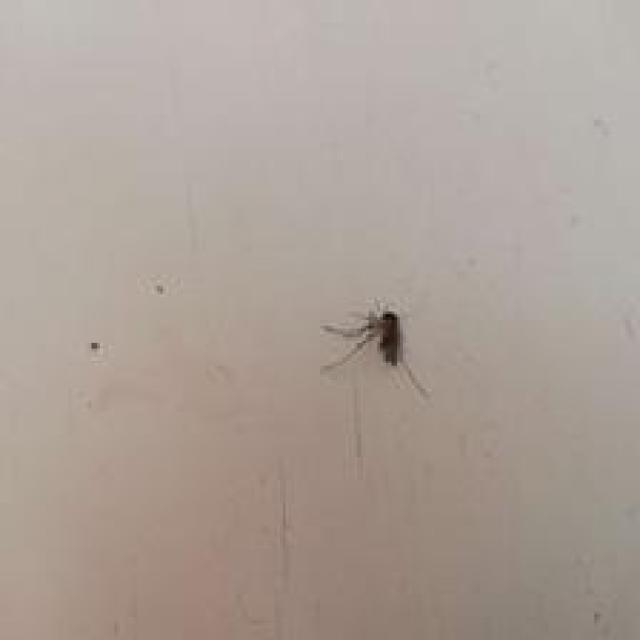Culex: (319, 297, 430, 400)
